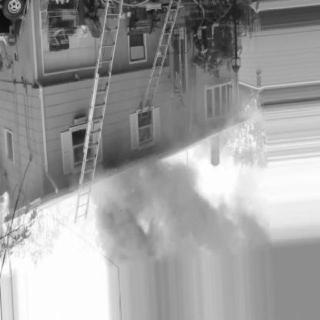Fire: (0, 190, 18, 252)
Smoke: (88, 160, 320, 320)
